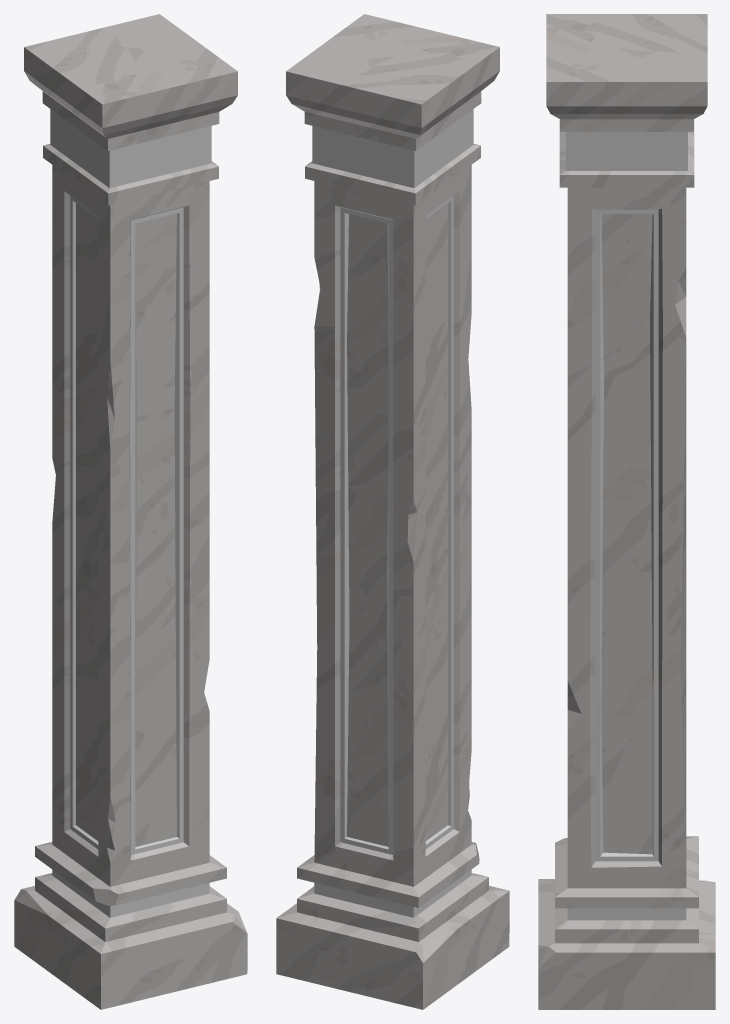
Rendered from SM_Bld_Pillar_06.fbx.
The picture shows the model from 3 angles, left to right: view 1: azimuth 30°, elevation 25°; view 2: azimuth 150°, elevation 25°; view 3: azimuth 270°, elevation 25°; orthographic projection. The views are drawn at different scales.
Visible parts, largest first — view 1: SM_Bld_Pillar_06; view 2: SM_Bld_Pillar_06; view 3: SM_Bld_Pillar_06.
Boxes of the visible parts, x1,y1,x2,y2 form: SM_Bld_Pillar_06: (14,14,247,1009); SM_Bld_Pillar_06: (276,14,509,1009); SM_Bld_Pillar_06: (538,14,715,1009).
Size of the model in its own units: 51.12 by 300 by 52.18.
